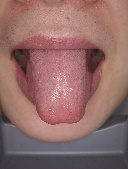tongue: (24, 51, 93, 126)
